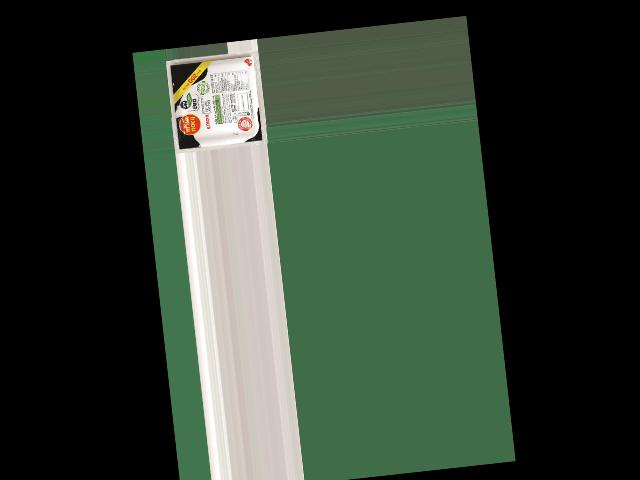cheese: (171, 51, 260, 150)
